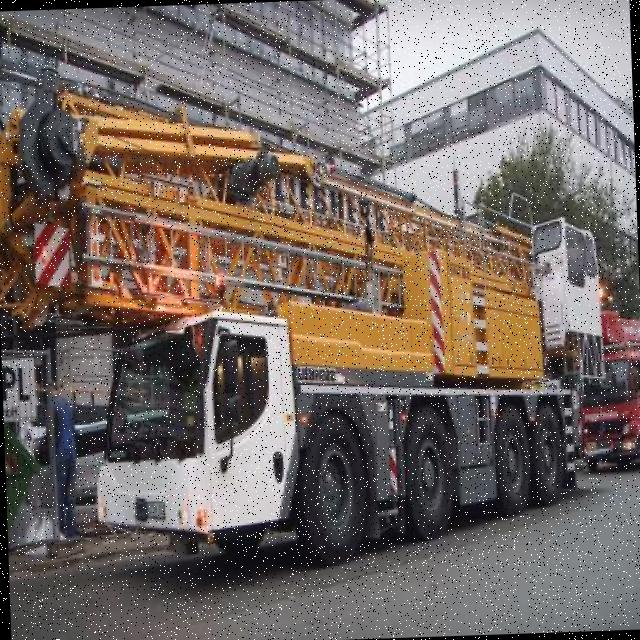Mobile Crane: (0, 38, 609, 568)
